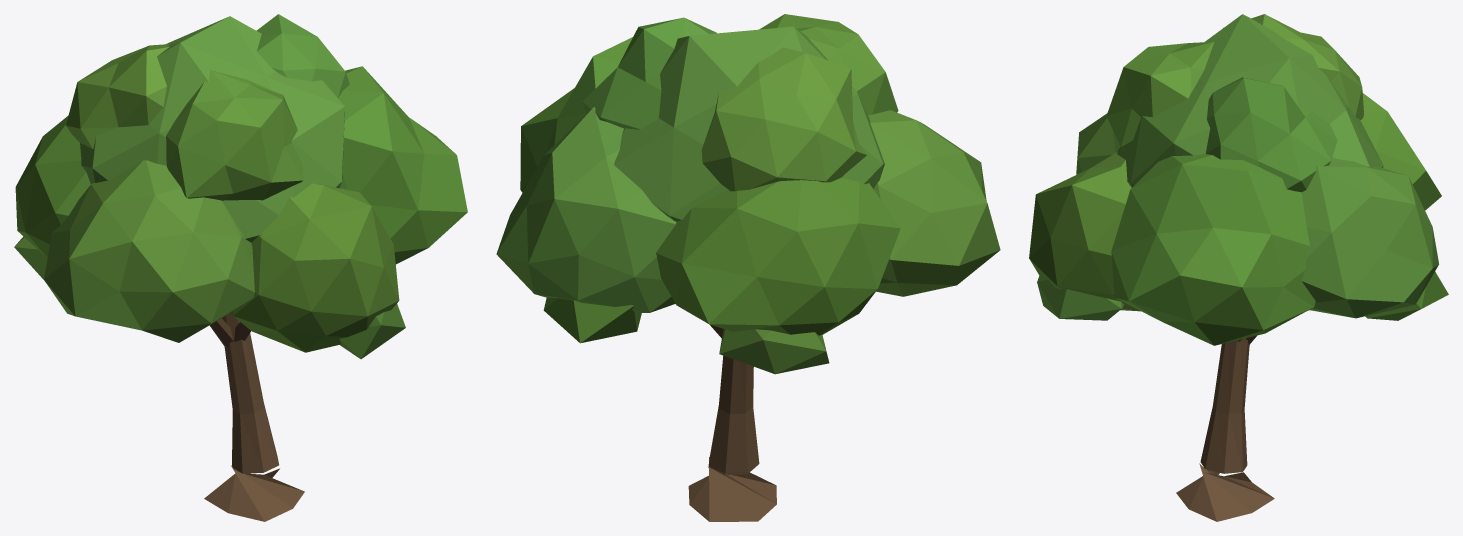
The model's file is broadleaf_b.glb.
The picture shows the model from 3 angles, left to right: view 1: azimuth 30°, elevation 25°; view 2: azimuth 150°, elevation 25°; view 3: azimuth 270°, elevation 25°; orthographic projection. The views are drawn at different scales.
Parts seen in each view (by area): view 1: broadleaf; view 2: broadleaf; view 3: broadleaf.
Boxes of the visible parts, <box> form: broadleaf: <box>14,14,467,521</box>; broadleaf: <box>496,14,1000,521</box>; broadleaf: <box>1029,14,1448,521</box>.
Bounding box in the file's own units: 9.45 × 10.41 × 8.71.
